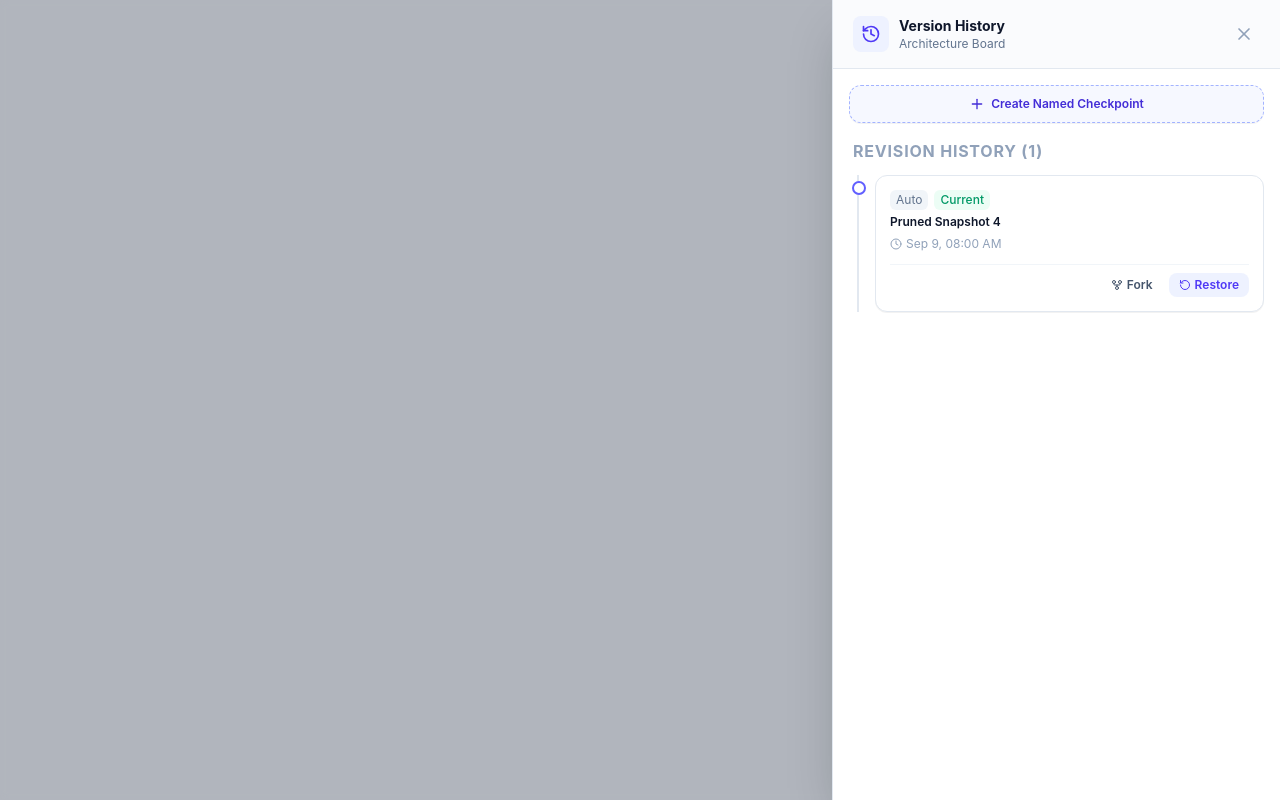
Test: HistoryDrawer › handles 404 on restore by displaying error and refreshing snapshot list
The image size is (1280, 800).
What coordinates should you click on to do the following:
click the button "Restore"
I would click on:
 (1209, 285)
Its box is [1169,273,1249,297].
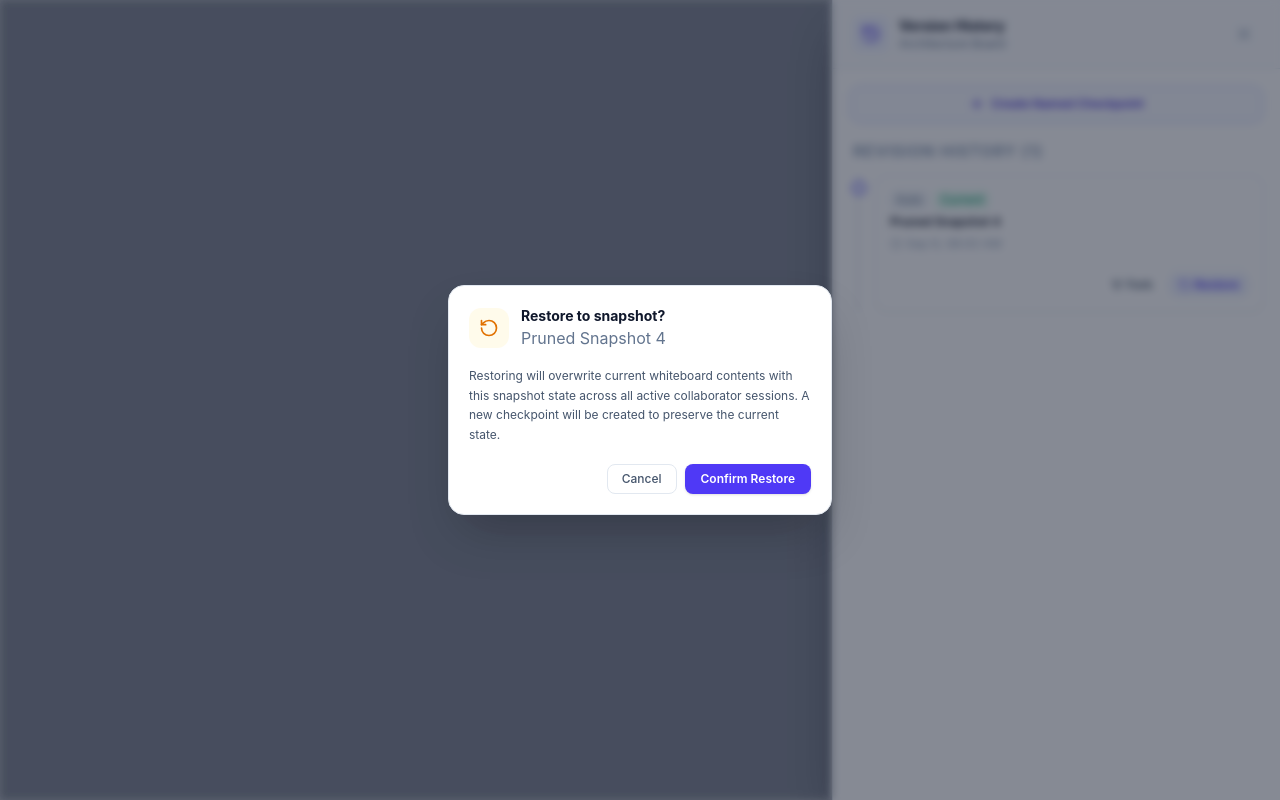
Expected: the button "Confirm Restore" is shown
What coordinates should you click on to do the following:
click the button "Confirm Restore"
I would click on:
 (748, 479)
Its box is [684,464,811,494].
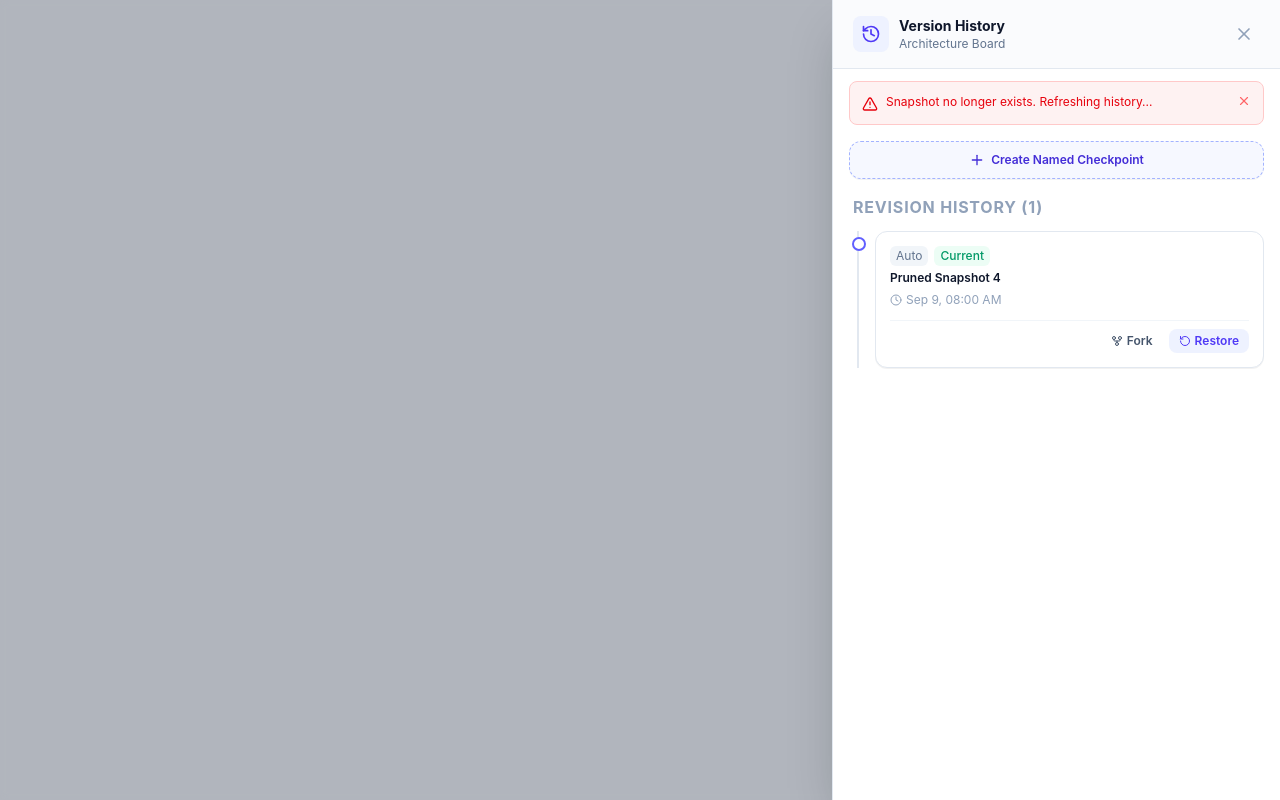
Expected: the text "Snapshot no longer exists. Refreshing history..." is shown, [886,94,1152,109]
